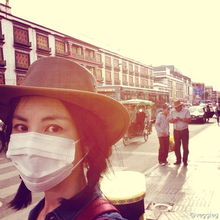face_mask: (8, 93, 77, 190)
